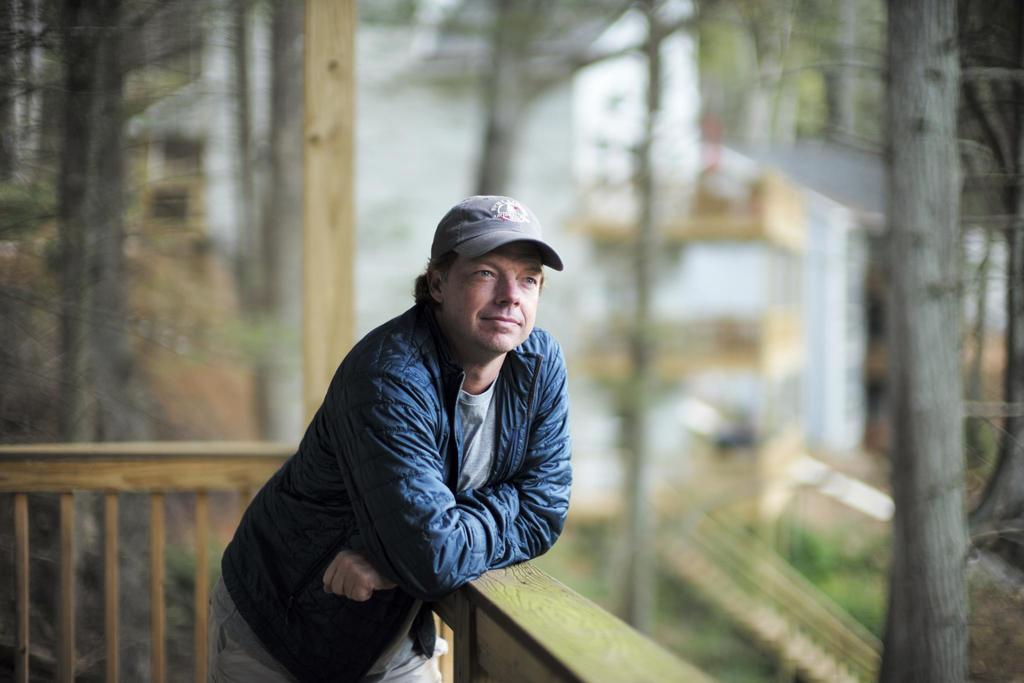Hat: (430, 194, 562, 268)
